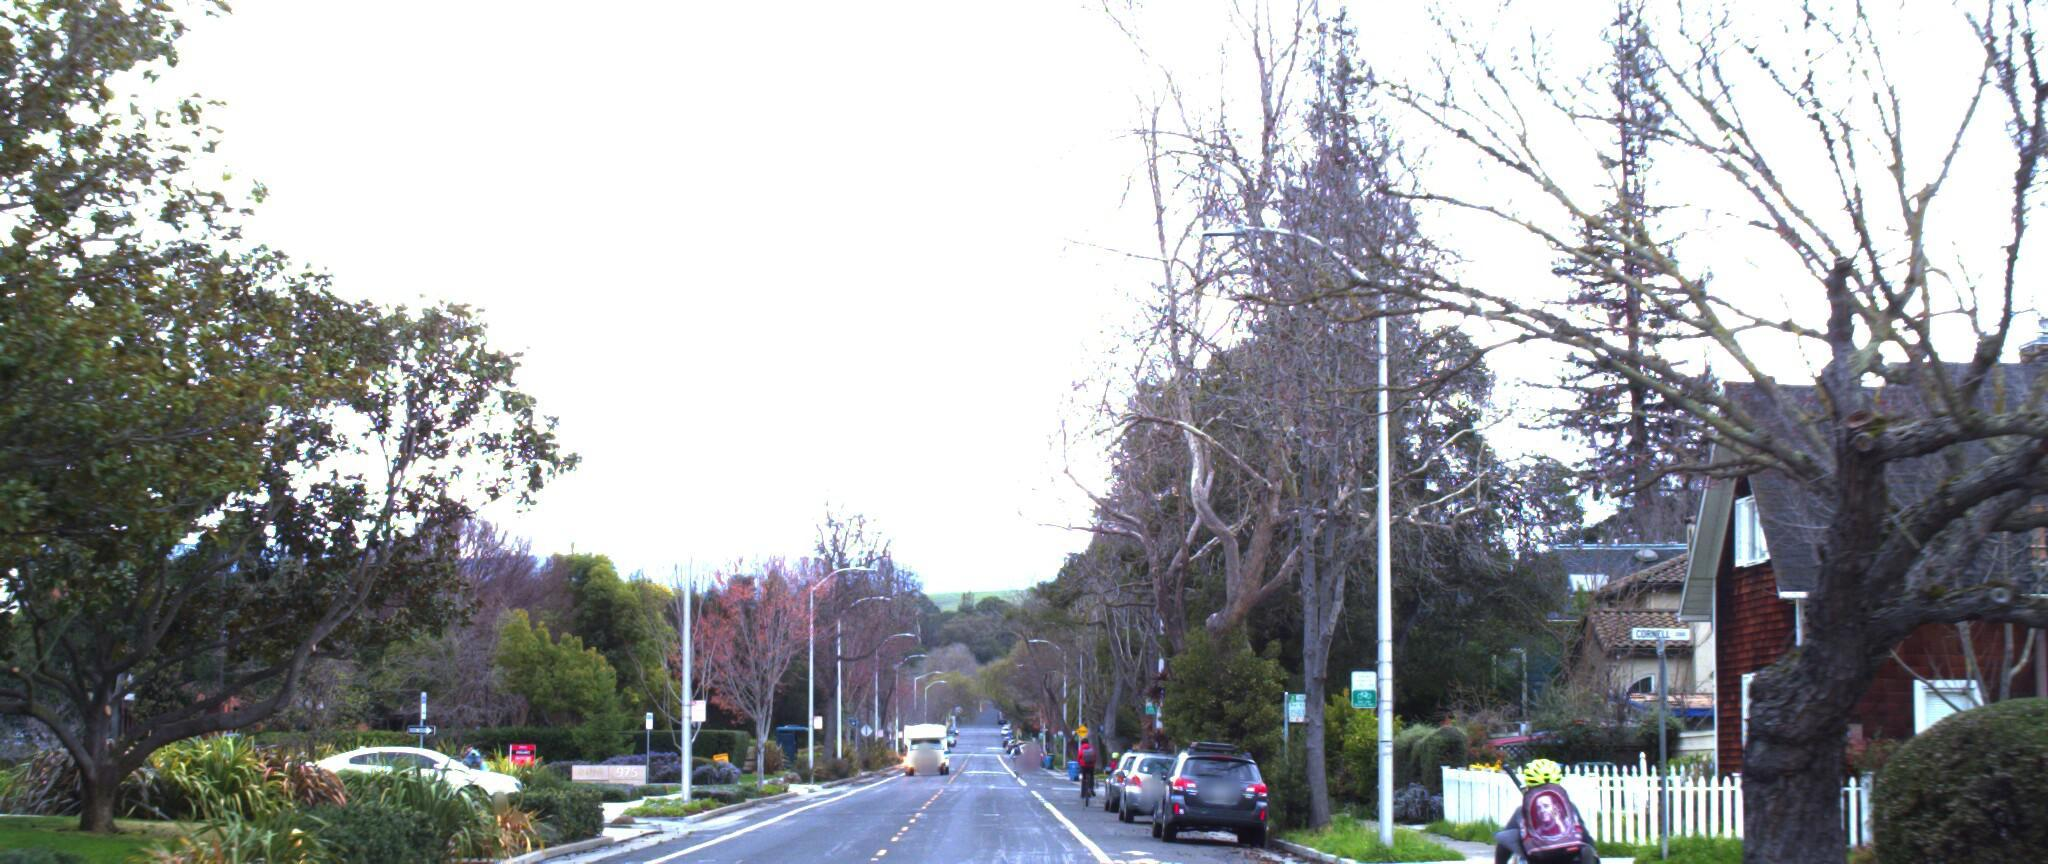bicycle: (1458, 740, 1672, 864)
car: (298, 754, 539, 827), (1138, 747, 1277, 855), (1113, 760, 1198, 834)
